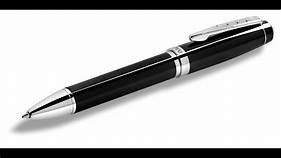pen: (14, 15, 276, 119)
